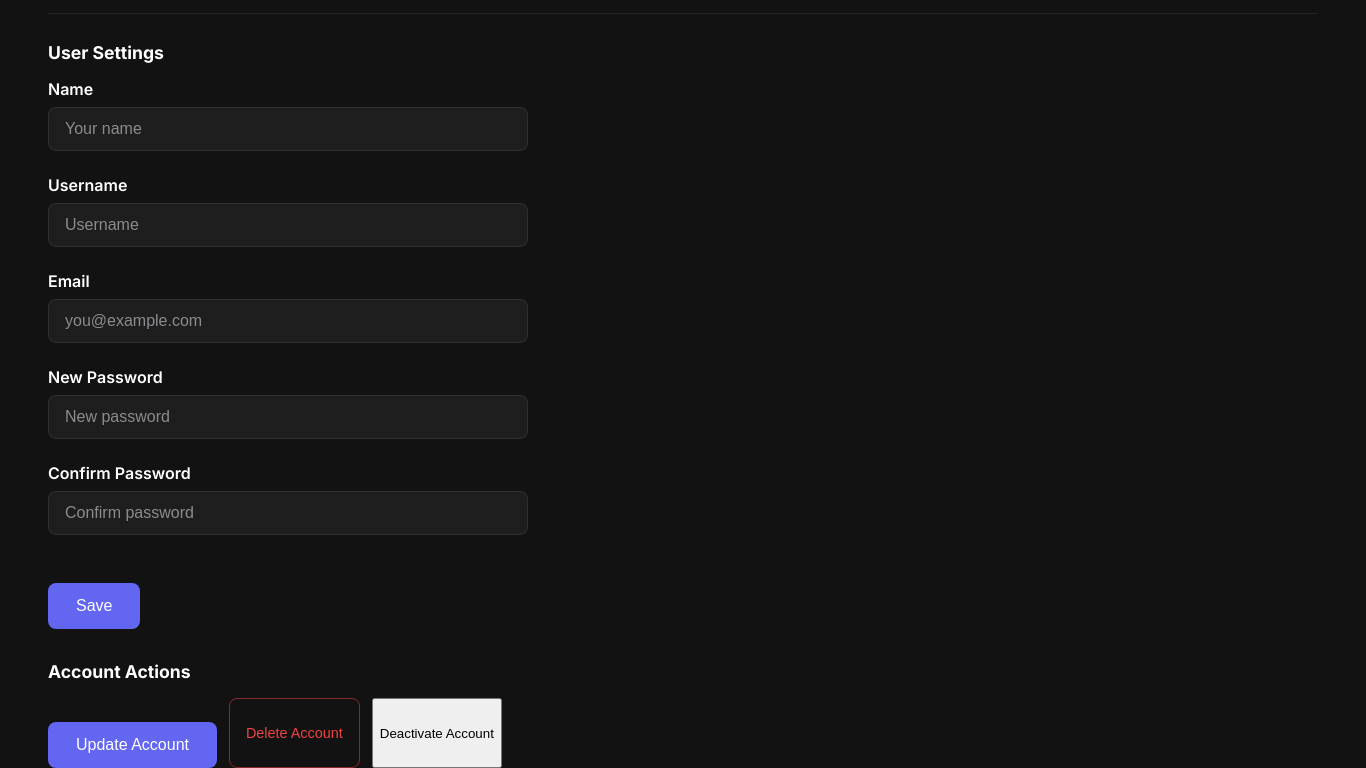
UserSettings component › shows error status when deletion request fails
(page scrolled)
Click the button "Delete Account" at (294, 733), box [229,698,360,767]
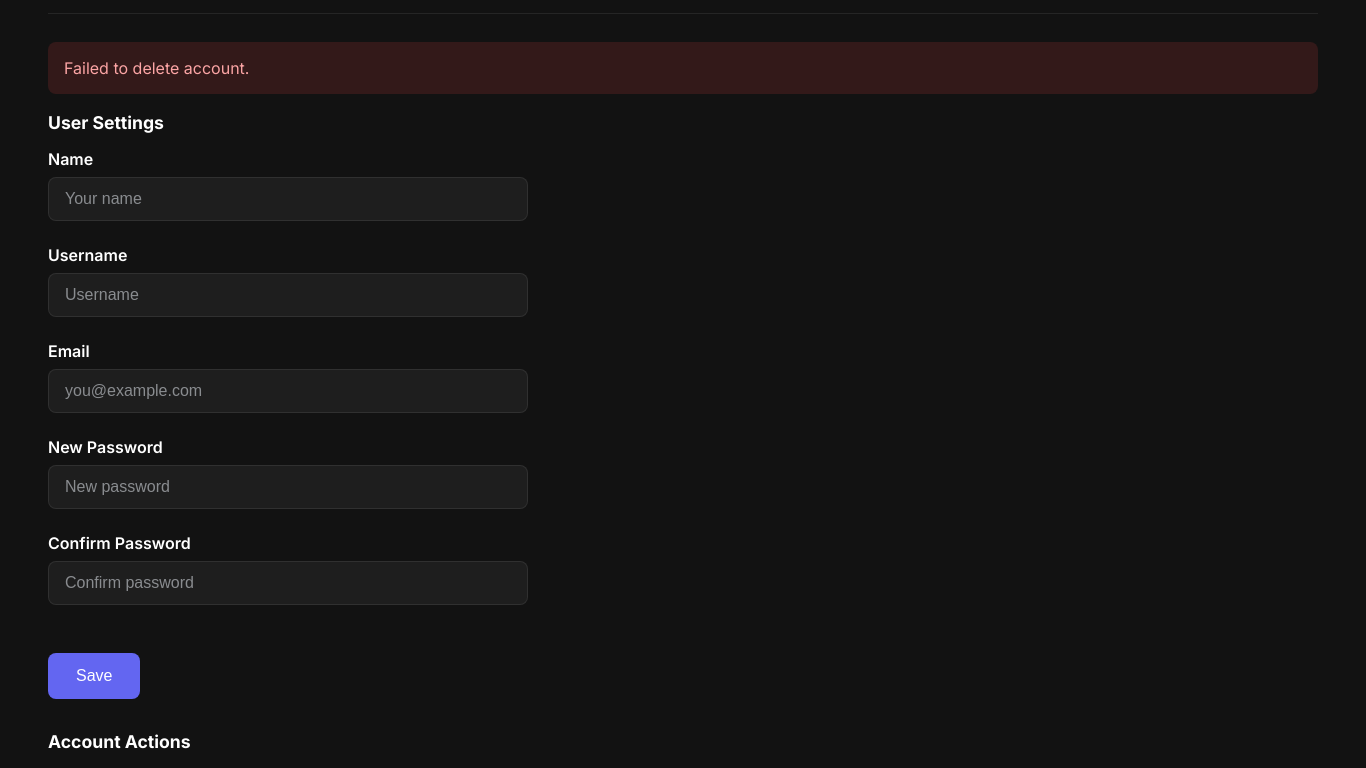
Now the text "Failed to delete account." is shown, box [48,42,1318,94]
